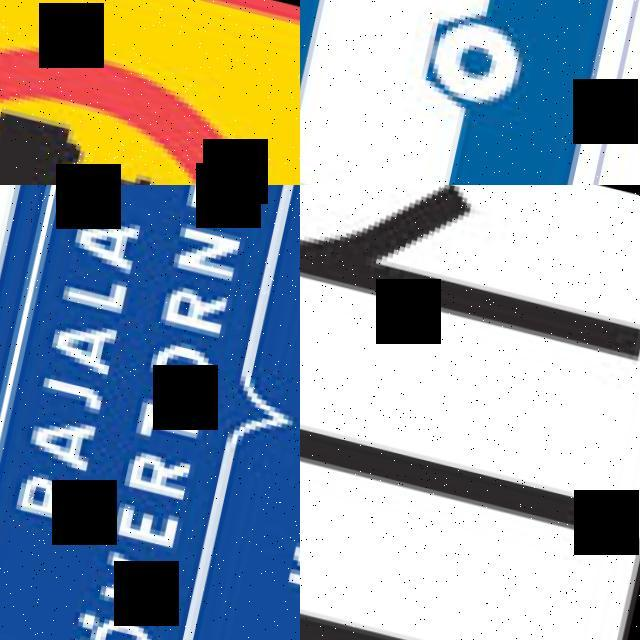106: (0, 185, 300, 640)
169: (300, 185, 640, 640)
Symbol plate for specified vehicle or road user category: (300, 0, 640, 185)
axle weight limit 30tonnes: (0, 0, 300, 185)
